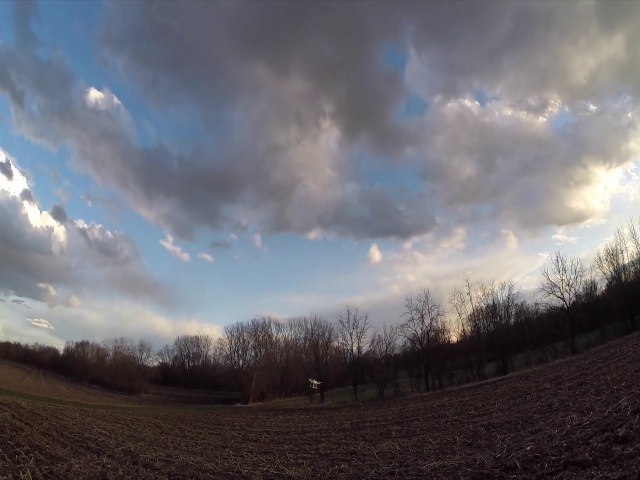drone: (306, 377, 323, 390)
